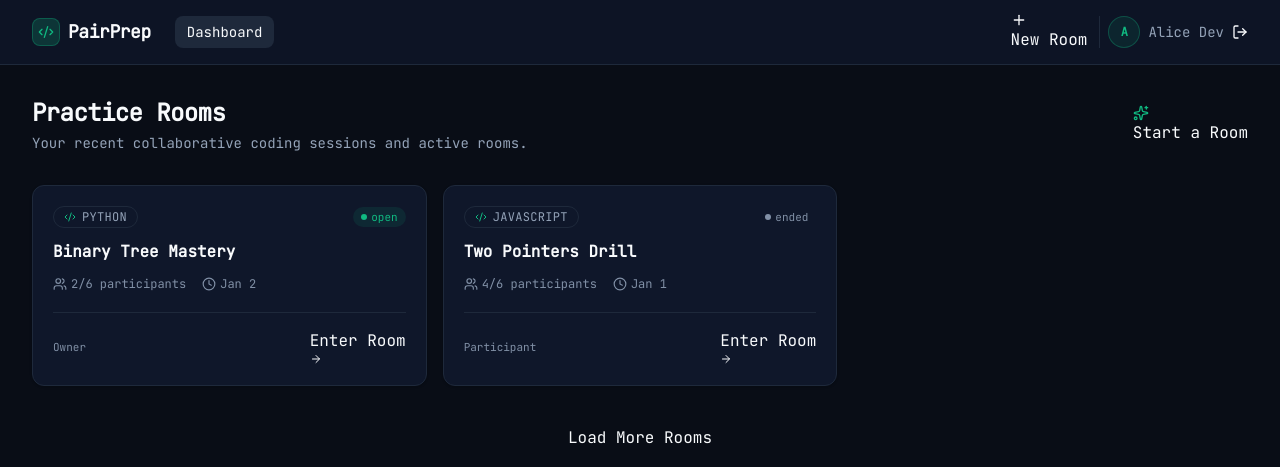
Test: DashboardPage › loads more rooms when 'Load More Rooms' cursor pagination is clicked
Check: the heading "Binary Tree Mastery" is shown, box [53,241,235,262]
Click the button "Load More Rooms": coordinates (640, 438) [568,426,712,450]
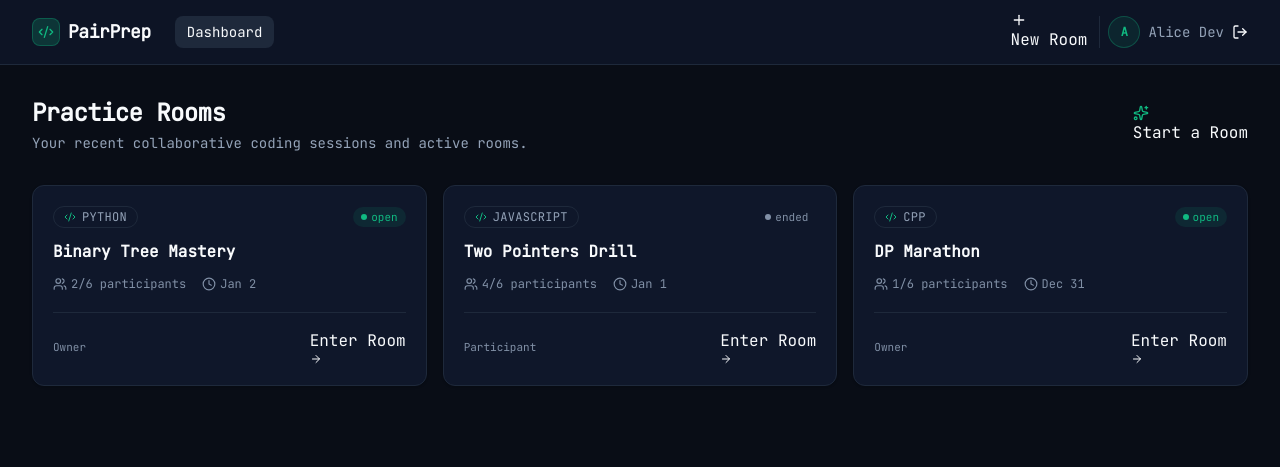
Check: the heading "DP Marathon" is shown, box [874,241,980,262]
Check: the button "Load More Rooms" is gone
